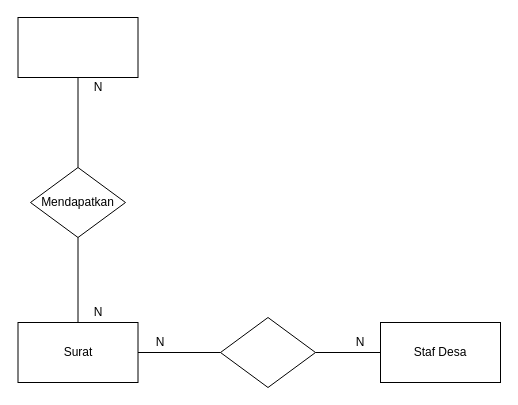
Image size: 518x405. Some labels were removed from this diagram. Here are the shapes that lost their labels. From the top down, the centre of each, then its label:
At pixel 77 47: "Penduduk".
At pixel 268 352: "Dibuat".
